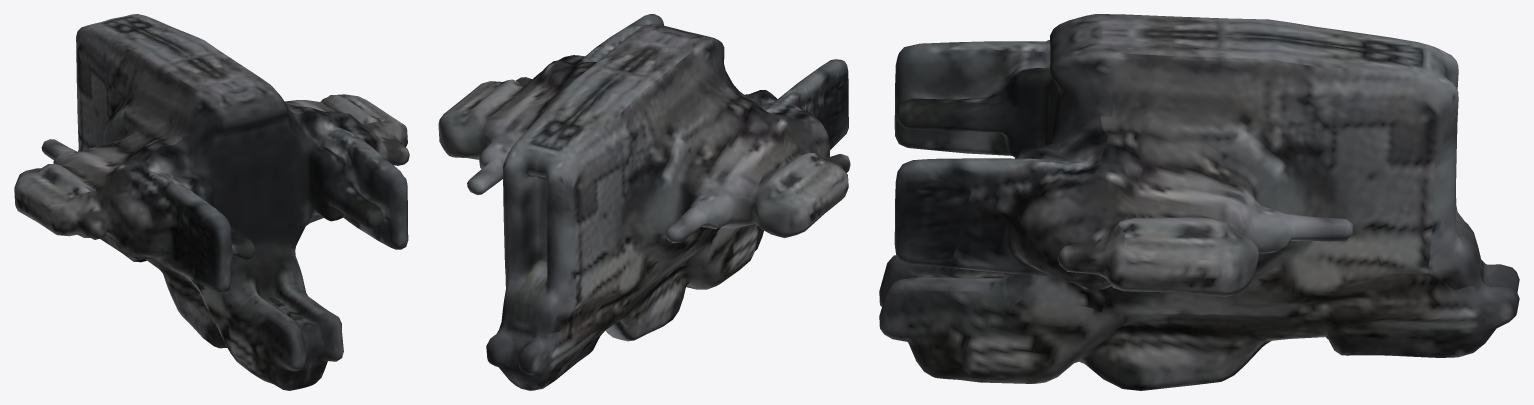
Rendered from placeholder_cybermorph.glb.
The picture shows the model from 3 angles, left to right: view 1: azimuth 30°, elevation 25°; view 2: azimuth 150°, elevation 25°; view 3: azimuth 270°, elevation 25°; orthographic projection. The views are drawn at different scales.
Visible parts, largest first — view 1: placeholder_cybermorph; view 2: placeholder_cybermorph; view 3: placeholder_cybermorph.
Boxes of the visible parts, x1,y1,x2,y2 form: placeholder_cybermorph: (14,14,409,390); placeholder_cybermorph: (438,14,850,390); placeholder_cybermorph: (879,14,1519,390).
Size of the model in its own units: 0.091 by 0.0649 by 0.1067.
Materials: 1 (1 with a texture image).
